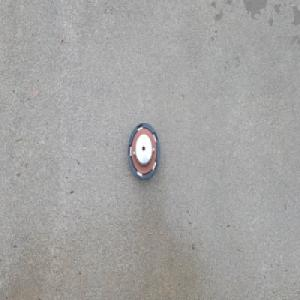FuelCap: (128, 119, 162, 181)
